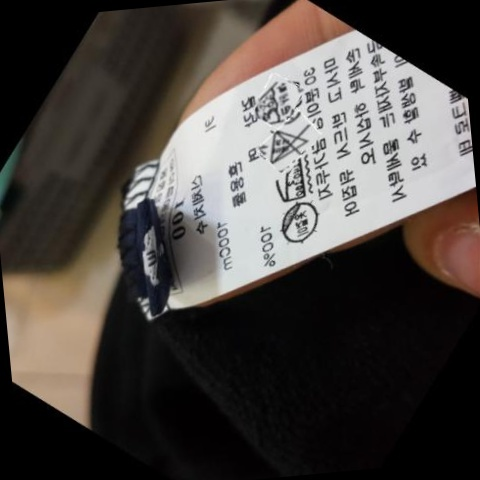hand_wash: (253, 76, 297, 125)
iron_medium: (269, 162, 309, 203)
line_dry_in_shade: (273, 197, 324, 248)
non_chlorine_bleach: (265, 125, 311, 163)
